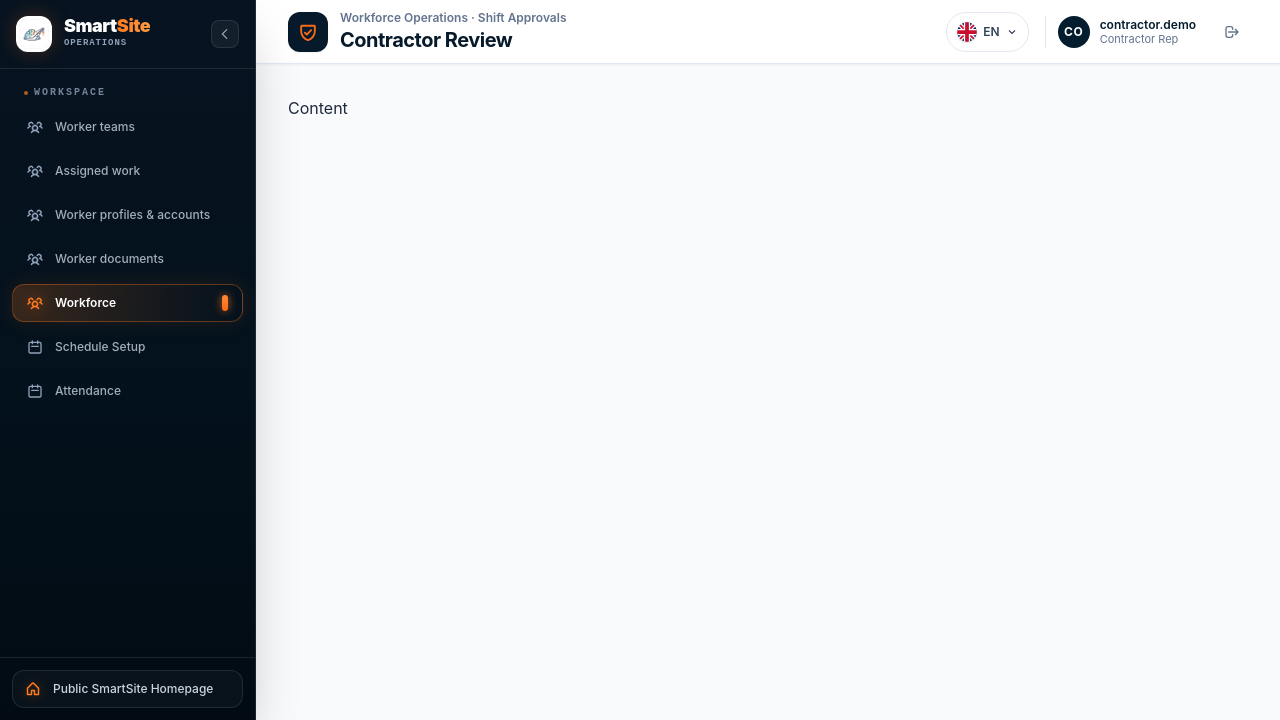
it: shows the current workspace and workforce function in the header without global search
Expected: the text "Workforce Operations · Shift Approvals" is shown, [340, 10, 566, 26]
Expected: the heading "Contractor Review" is shown, [340, 28, 512, 52]
What coordinates should you click on to do the following:
click the button "Attendance"
I would click on:
 (128, 391)
Its box is [12, 372, 243, 410].
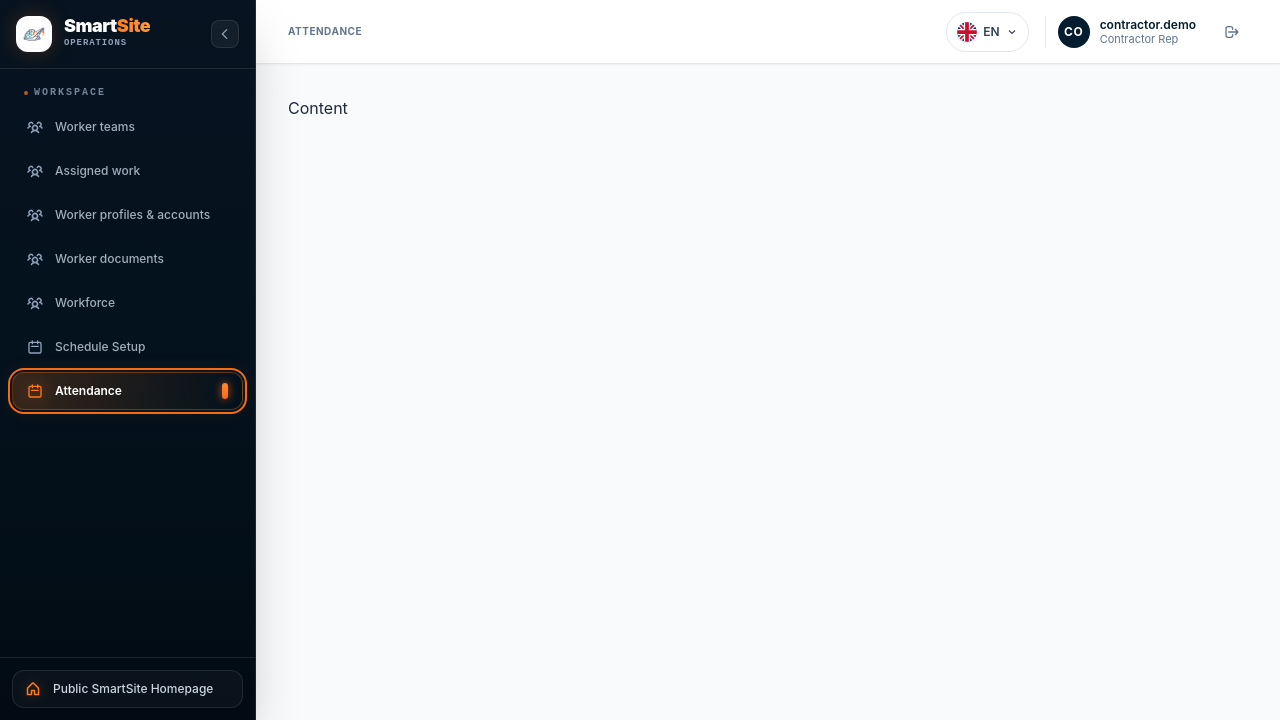
Now the text "Attendance" in the row of "contractor.demo" is shown, box [288, 25, 362, 37]
Now the heading "Contractor Review" is gone
